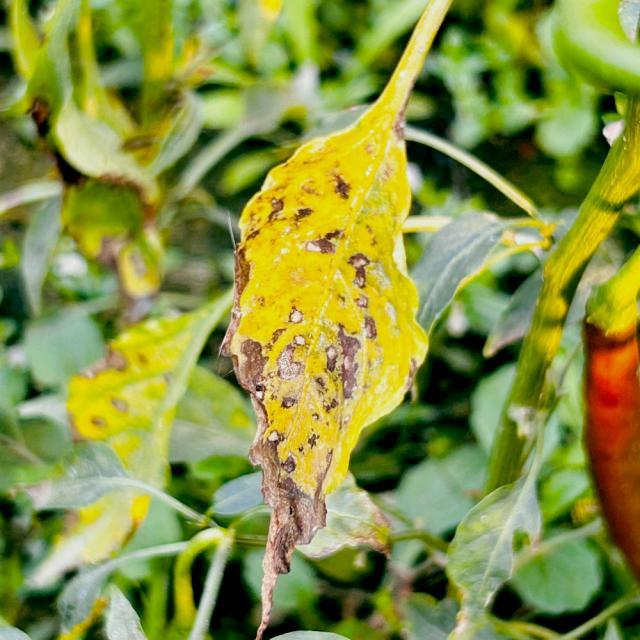Bercak Daun Serkospora: (216, 108, 452, 638)
